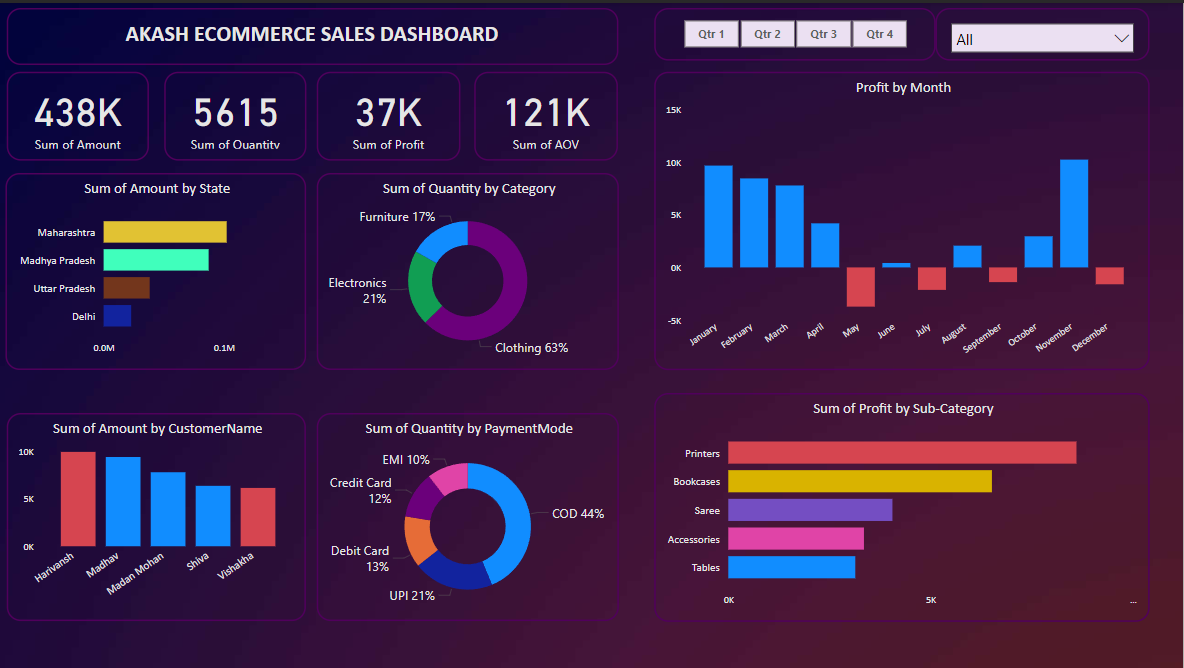

The dashboard page shown, as its layout file describes it:
{"tool":"powerbi","page":{"name":"Page 1","canvas":[1280,720],"ordinal":0},"visuals":[{"type":"textbox","box":[9.6,5.6,660.4,61.9],"z":0},{"type":"columnChart","title":"Profit by Month","fields":{"Category":["Orders.Order Date.Variation.Date Hierarchy.Month"],"Y":["Details.Profit"]},"box":[708.6,73.9,535.1,322.2],"z":1000},{"type":"barChart","fields":{"Category":["Details.Sub-Category"],"Y":["Details.Profit"]},"box":[708.6,421,535.1,247.5],"z":2000},{"type":"donutChart","fields":{"Category":["Details.Category"],"Y":["Details.Quantity"]},"box":[343.9,183.2,326.2,212.9],"z":3000},{"type":"donutChart","fields":{"Category":["Details.PaymentMode"],"Y":["Details.Quantity"]},"box":[343.9,443.5,326.2,225],"z":4000},{"type":"card","fields":{"Values":["Details.Amount"]},"box":[9.6,73.9,153.5,95.6],"z":5000},{"type":"card","fields":{"Values":["Details.Quantity"]},"box":[179.2,73.9,153.5,95.6],"z":6000},{"type":"card","fields":{"Values":["Details.Profit"]},"box":[343.9,73.9,155.1,95.6],"z":7000},{"type":"card","fields":{"Values":["Details.AOV"]},"box":[515,73.9,155.1,95.6],"z":8000},{"type":"barChart","fields":{"Category":["Orders.State"],"Y":["Details.Amount"]},"box":[8,183.2,324.6,212.9],"z":9000},{"type":"columnChart","fields":{"Y":["Details.Amount"],"Category":["Orders.CustomerName"]},"box":[9.6,443.5,323,225],"z":10000},{"type":"slicer","fields":{"Values":["Orders.Order Date.Variation.Date Hierarchy.Quarter"]},"box":[708.6,5.6,303.7,57],"z":11000},{"type":"slicer","fields":{"Values":["Orders.State"]},"box":[1012.3,5.6,231.4,57],"z":12000}]}

Visuals, with their boxes in screenshot pixels (x1, y1, x2, y2), scaled from the page's 1280x720 canvas onto the 1184x668 screenshot:
textbox: 9, 5, 620, 63
"Profit by Month" columnChart: 655, 69, 1150, 367
barChart - Details.Sub-Category x Details.Profit: 655, 391, 1150, 620
donutChart - Details.Category x Details.Quantity: 318, 170, 620, 367
donutChart - Details.PaymentMode x Details.Quantity: 318, 411, 620, 620
card - Details.Amount: 9, 69, 151, 157
card - Details.Quantity: 166, 69, 308, 157
card - Details.Profit: 318, 69, 462, 157
card - Details.AOV: 476, 69, 620, 157
barChart - Orders.State x Details.Amount: 7, 170, 308, 367
columnChart - Details.Amount x Orders.CustomerName: 9, 411, 308, 620
slicer - Orders.Order Date.Variation.Date Hierarchy.Quarter: 655, 5, 936, 58
slicer - Orders.State: 936, 5, 1150, 58
